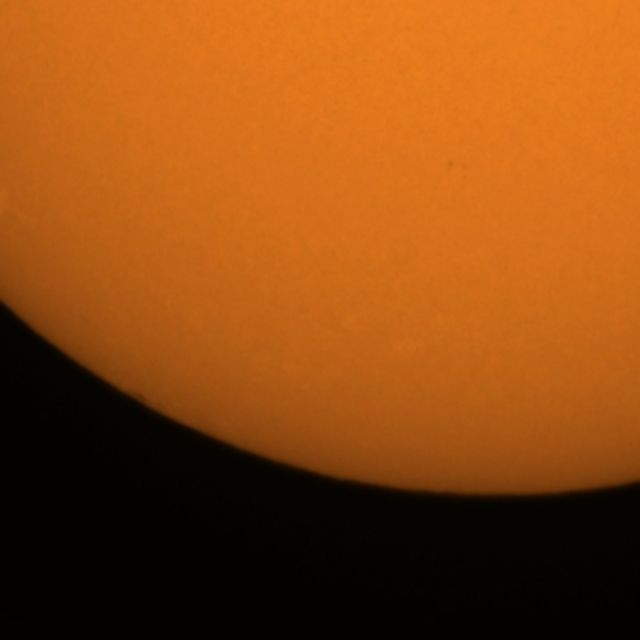sunspot: (445, 158, 469, 176)
